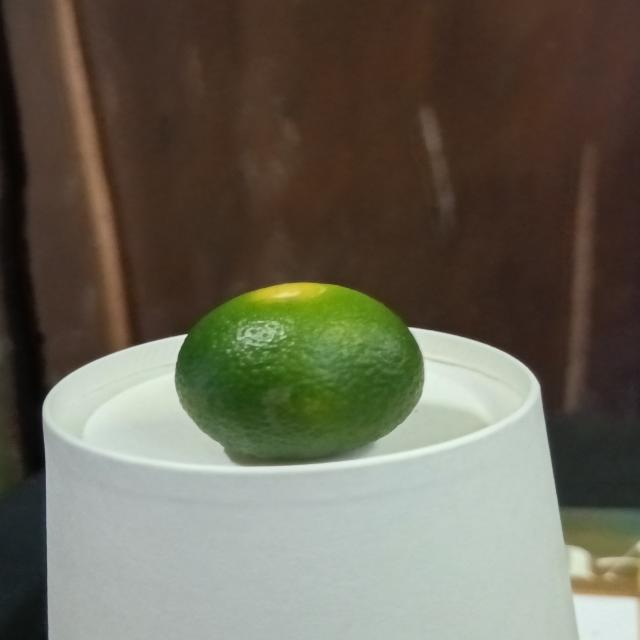heathy: (174, 278, 427, 460)
